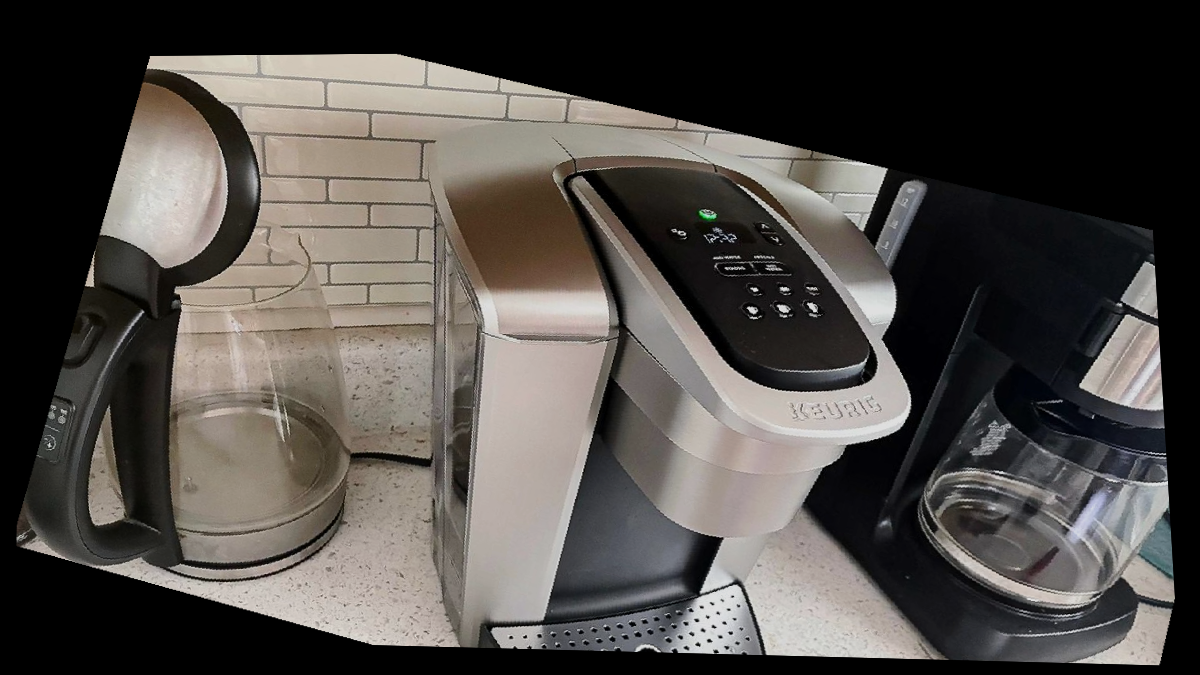10oz: (769, 300, 795, 318)
12oz: (800, 300, 826, 318)
4oz: (743, 282, 765, 297)
6oz: (774, 282, 796, 297)
8oz: (739, 303, 765, 321)
add_water: (709, 247, 750, 264)
descale: (752, 245, 786, 262)
hot: (755, 258, 797, 276)
iced: (803, 281, 825, 297)
power: (697, 207, 719, 221)
strong: (714, 260, 756, 278)
